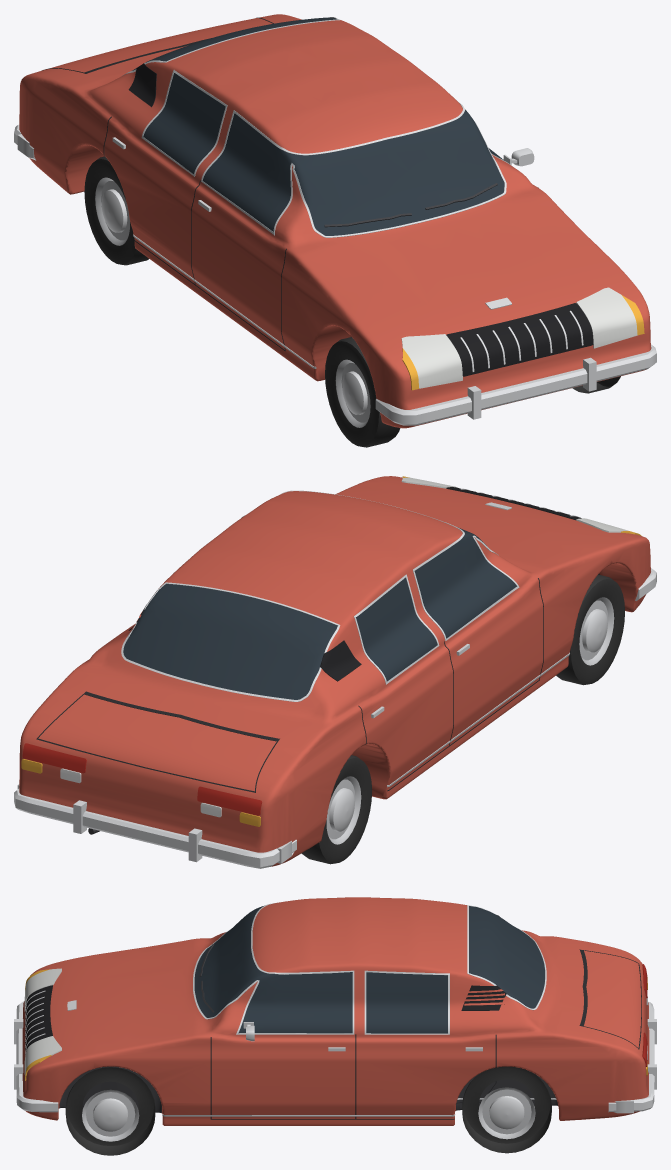
The picture shows the model from 3 angles, top to bottom: view 1: azimuth 30°, elevation 25°; view 2: azimuth 150°, elevation 25°; view 3: azimuth 270°, elevation 25°; orthographic projection. The views are drawn at different scales.
Visible parts, largest first — view 1: paint, glass, trim, headlights, wheel_fr, wheel_rr; view 2: paint, glass, trim, wheel_fr, wheel_rr, taillights, headlights; view 3: paint, glass, trim, wheel_fl, wheel_rl, headlights.
Part boxes in pixels (left/top/right/bottom): paint: left=19, top=14, right=651, bottom=428; glass: left=132, top=17, right=504, bottom=235; trim: left=14, top=17, right=656, bottom=425; headlights: left=401, top=287, right=637, bottom=388; wheel_fr: left=325, top=337, right=400, bottom=447; wheel_rr: left=84, top=156, right=148, bottom=265; paint: left=19, top=476, right=650, bottom=866; glass: left=123, top=527, right=516, bottom=699; trim: left=14, top=487, right=656, bottom=868; wheel_fr: left=556, top=574, right=624, bottom=685; wheel_rr: left=301, top=755, right=371, bottom=864; taillights: left=22, top=743, right=262, bottom=815; headlights: left=401, top=477, right=628, bottom=532; paint: left=22, top=897, right=649, bottom=1125; glass: left=194, top=905, right=544, bottom=1033; trim: left=14, top=902, right=656, bottom=1119; wheel_fl: left=65, top=1067, right=155, bottom=1155; wheel_rl: left=462, top=1066, right=551, bottom=1153; headlights: left=24, top=968, right=61, bottom=1075.
Size of the model in its own units: 1.77 by 1.4 by 4.44.
